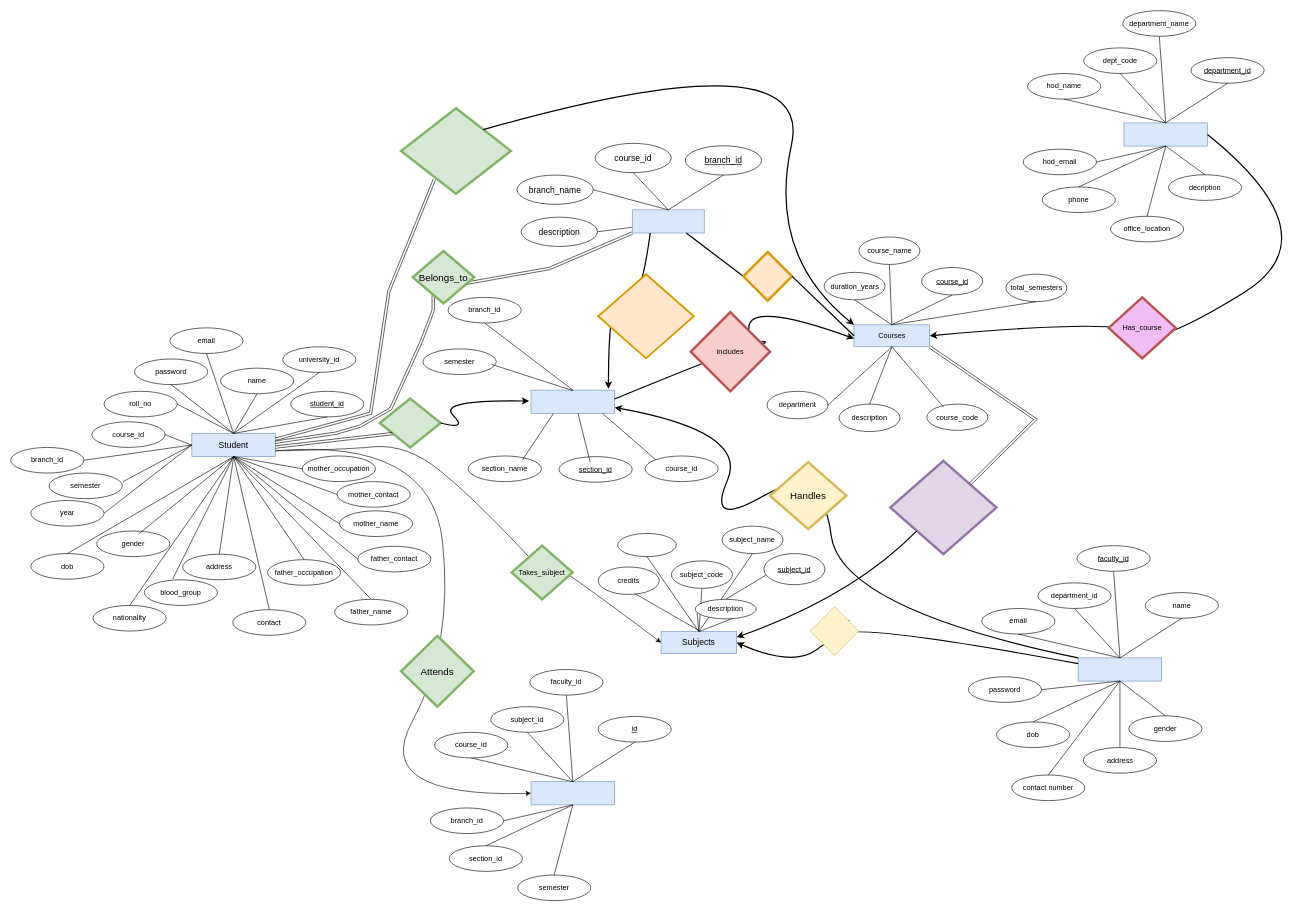
The diagram is 1293 pixels wide and 911 high, and some of its shapes have lost their labels. The shapes that lost their labels are listed below. From the top down, each one's centre as x and y in pixels, then its label:
At point 456,151: "Enrolled_in".
At point 1165,134: "Departments".
At point 668,221: "Course_Branch".
At point 767,276: "Has_branch".
At point 645,316: "Divided_into".
At point 572,401: "Sections".
At point 410,422: "Assigned_to".
At point 943,507: "comprises".
At point 646,545: "course".
At point 834,630: "Teaches".
At point 1120,669: "Faculty".
At point 572,793: "Faculty_Subjects".
